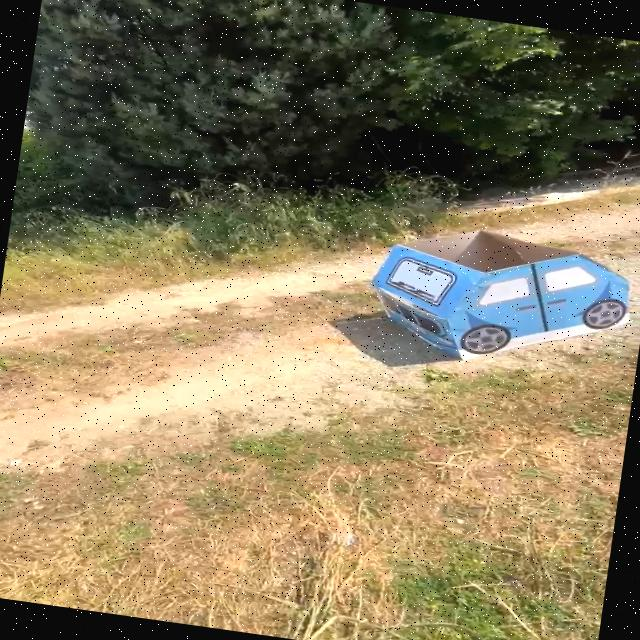blue_car: (332, 195, 640, 391)
